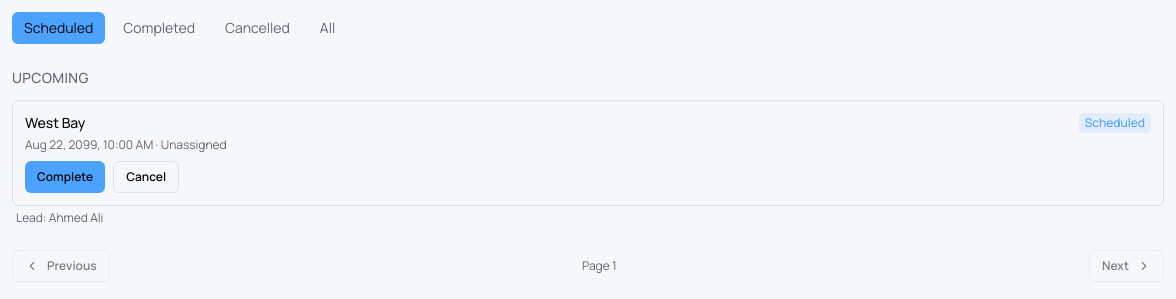
Test: AppointmentsQueueClient › filters by completed tab
Expected: the text "West Bay" is shown, [25,113,85,132]
Step 1. Click the tab "Completed" → {"x": 159, "y": 28}, box [111,12,207,44]
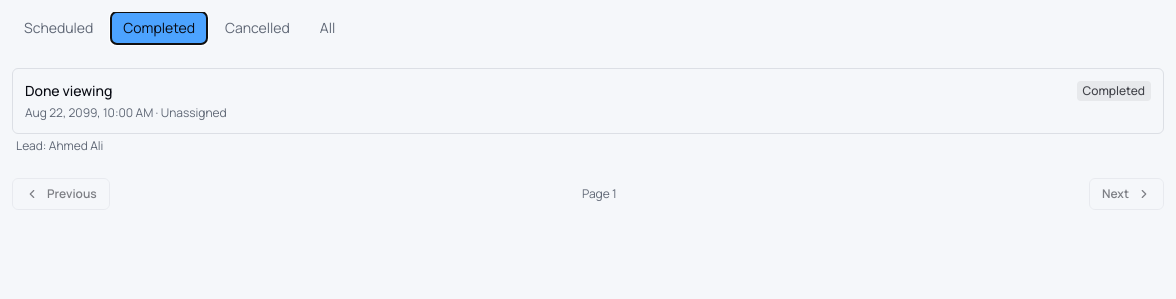
Result: the text "Done viewing" is shown at [25,81,112,100]
